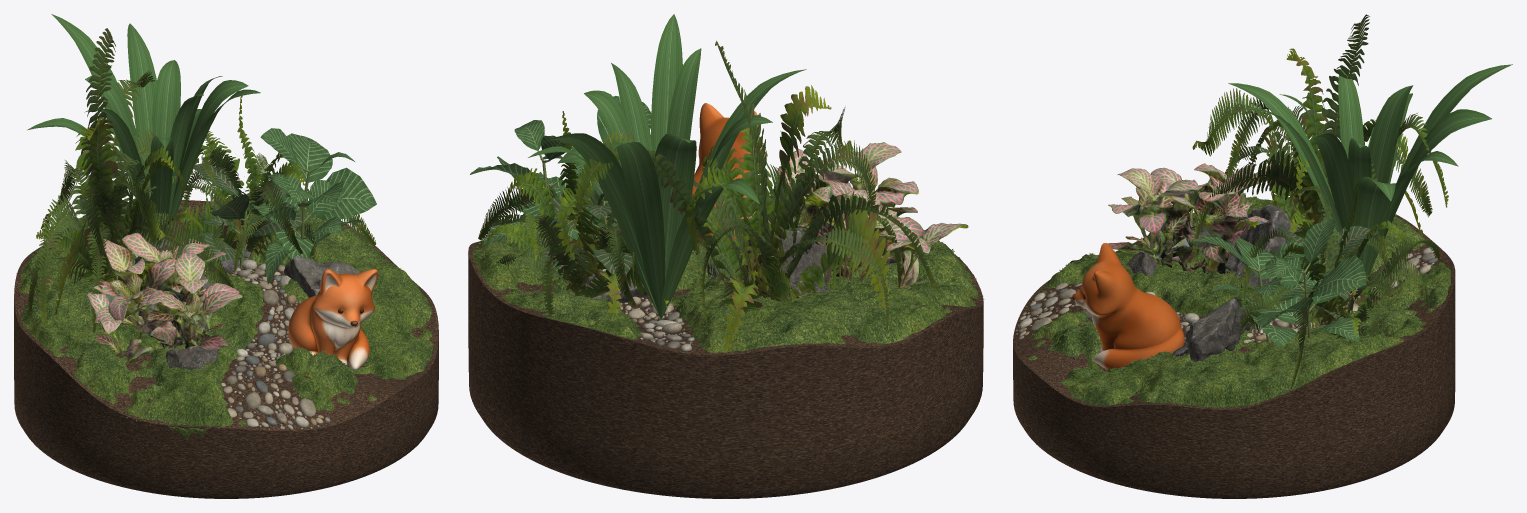
The model's file is woodland-specimens.glb.
3 views of the same model, side by side, from view 1: azimuth 30°, elevation 25°; view 2: azimuth 150°, elevation 25°; view 3: azimuth 270°, elevation 25° (orthographic). The views are drawn at different scales.
Parts seen in each view (by area): view 1: Earth · planted bank, Cushion moss · continuous bank, Fern 02 · B, Pink Angel Fittonia · harenil, Fern 02 · C, Fittonia · ivory, River gravel · worn limestone and chert, Fox · Tripo terracotta, Canopy 1, Living moss · rosettes, Canopy 2, Fittonia · rose (+5 smaller); view 2: Earth · planted bank, Fern 02 · B, Cushion moss · continuous bank, Canopy 1, Fern 02 · C, Pink Angel Fittonia · harenil, Canopy 2, Living moss · rosettes, Canopy 0, Fittonia · ivory, River gravel · worn limestone and chert, Fox · Tripo terracotta (+3 smaller); view 3: Earth · planted bank, Cushion moss · continuous bank, Fern 02 · B, Pink Angel Fittonia · harenil, Canopy 1, Fern 02 · C, Fittonia · ivory, Fox · Tripo terracotta, Living moss · rosettes, River gravel · worn limestone and chert, Woodland outcrop · 06, Canopy 0 (+5 smaller).
Boxes of the visible parts, x1,y1,x2,y2 form: Earth · planted bank: [14, 199, 438, 498]; Cushion moss · continuous bank: [16, 205, 433, 439]; Fern 02 · B: [27, 28, 234, 332]; Pink Angel Fittonia · harenil: [87, 232, 242, 363]; Fern 02 · C: [146, 96, 376, 274]; Fittonia · ivory: [248, 128, 376, 284]; River gravel · worn limestone and chert: [131, 252, 330, 429]; Fox · Tripo terracotta: [288, 269, 377, 370]; Canopy 1: [51, 14, 201, 238]; Living moss · rosettes: [22, 204, 429, 418]; Canopy 2: [27, 60, 260, 240]; Fittonia · rose: [185, 162, 303, 261]; Earth · planted bank: [468, 235, 983, 498]; Fern 02 · B: [573, 40, 943, 352]; Cushion moss · continuous bank: [468, 213, 984, 352]; Canopy 1: [544, 69, 806, 319]; Fern 02 · C: [478, 111, 668, 314]; Pink Angel Fittonia · harenil: [748, 142, 968, 288]; Canopy 2: [528, 14, 759, 319]; Living moss · rosettes: [475, 221, 975, 348]; Canopy 0: [584, 48, 772, 177]; Fittonia · ivory: [470, 96, 651, 244]; River gravel · worn limestone and chert: [602, 244, 732, 351]; Fox · Tripo terracotta: [692, 103, 765, 246]; Earth · planted bank: [1013, 214, 1455, 498]; Cushion moss · continuous bank: [1028, 197, 1450, 409]; Fern 02 · B: [1192, 14, 1448, 275]; Pink Angel Fittonia · harenil: [1108, 162, 1271, 273]; Canopy 1: [1228, 64, 1512, 290]; Fern 02 · C: [1239, 177, 1441, 388]; Fittonia · ivory: [1191, 219, 1366, 347]; Fox · Tripo terracotta: [1072, 243, 1184, 369]; Living moss · rosettes: [1032, 196, 1446, 399]; River gravel · worn limestone and chert: [1015, 247, 1437, 343]; Woodland outcrop · 06: [1184, 298, 1253, 361]; Canopy 0: [1279, 68, 1371, 189].
Bounding box in the file's own units: 2.64 × 2.41 × 2.98.
15 materials, 13 textured.
